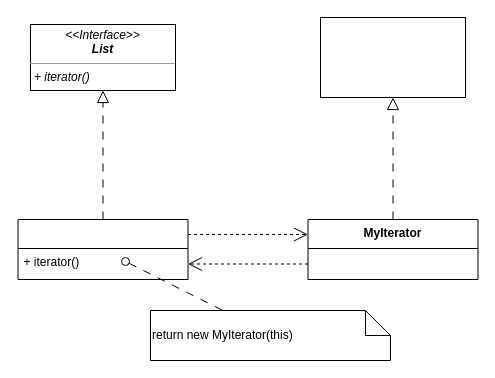
Some shapes in this 495 by 378 pixel diagram are drawn without their labels. Here are the shapes that lost their labels. From the top down, the box of each, then its label:
(320, 16, 466, 98): <<Interface>> Iterator + hasNext() + next()
(17, 218, 188, 280): MyList
